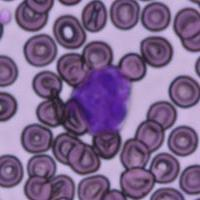B: (66, 64, 132, 136)
